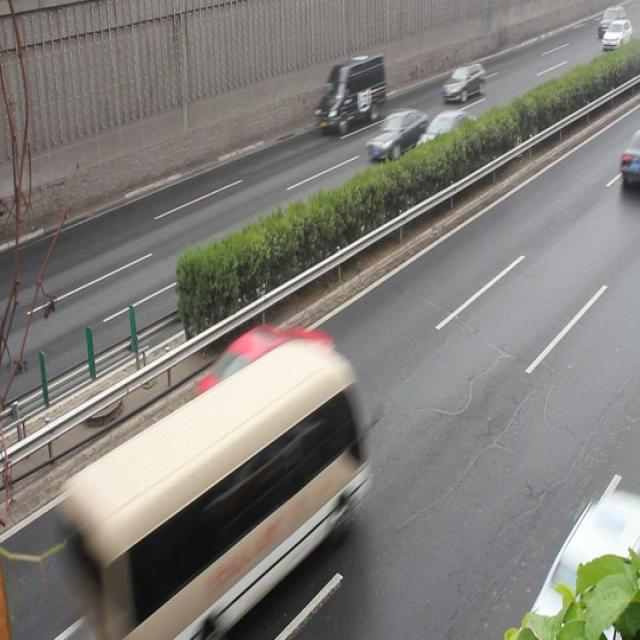car: (194, 322, 336, 427), (414, 109, 479, 164), (363, 103, 426, 158), (619, 125, 639, 188)
